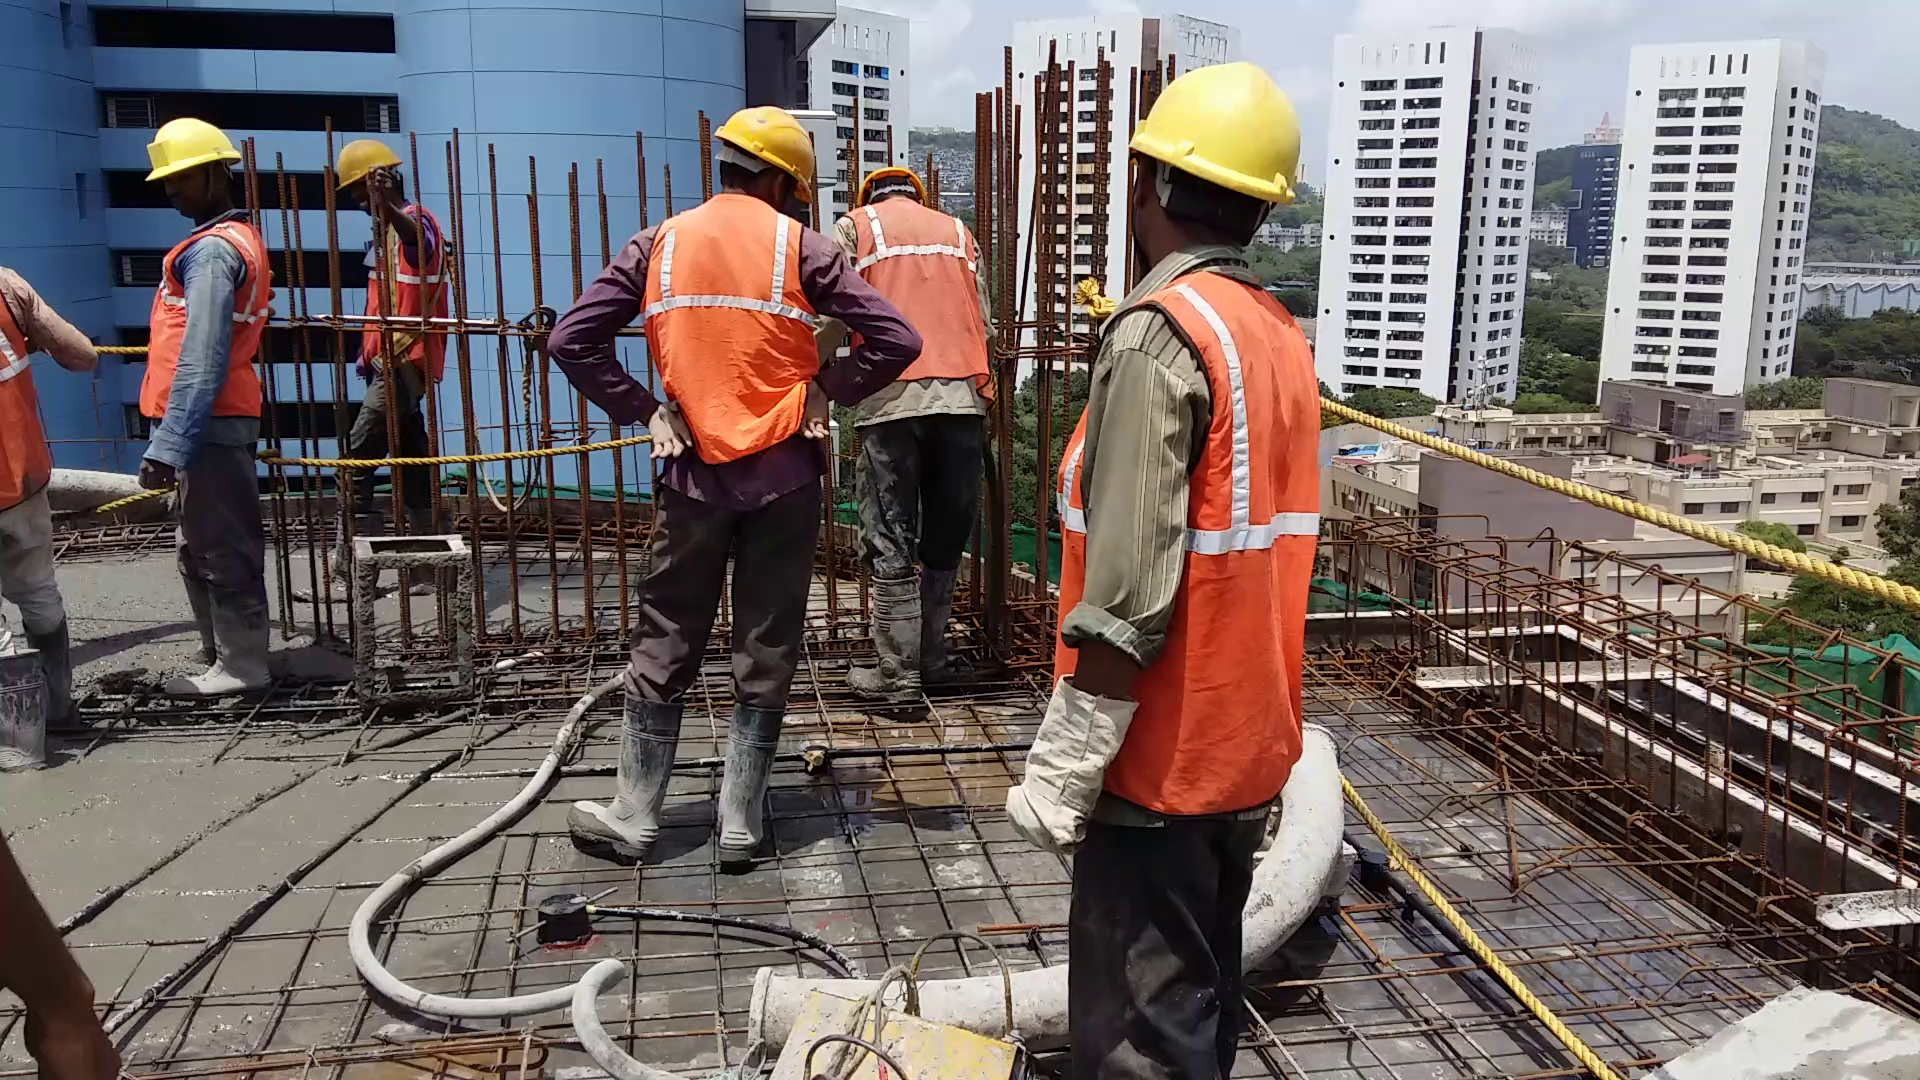SAFE: (1046, 61, 1321, 825), (636, 104, 832, 460), (142, 117, 272, 439)
